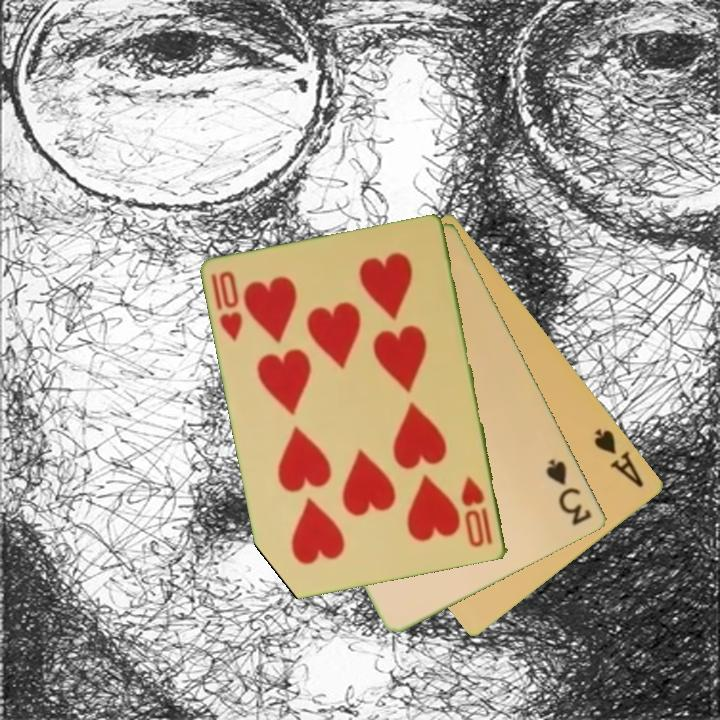10h: (458, 473, 496, 551), (208, 267, 246, 345)
3s: (543, 455, 596, 529)
As: (591, 424, 647, 491)
